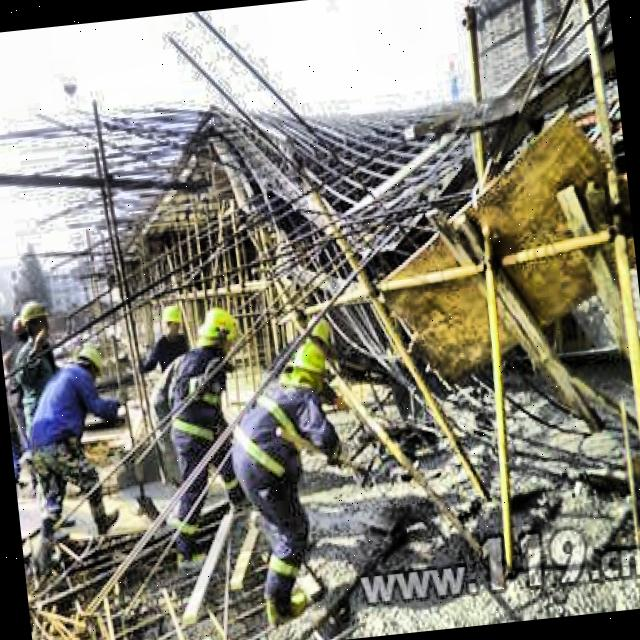helmet: (276, 340, 340, 393), (193, 304, 238, 356), (18, 299, 54, 353), (70, 345, 108, 387), (156, 304, 187, 344)
